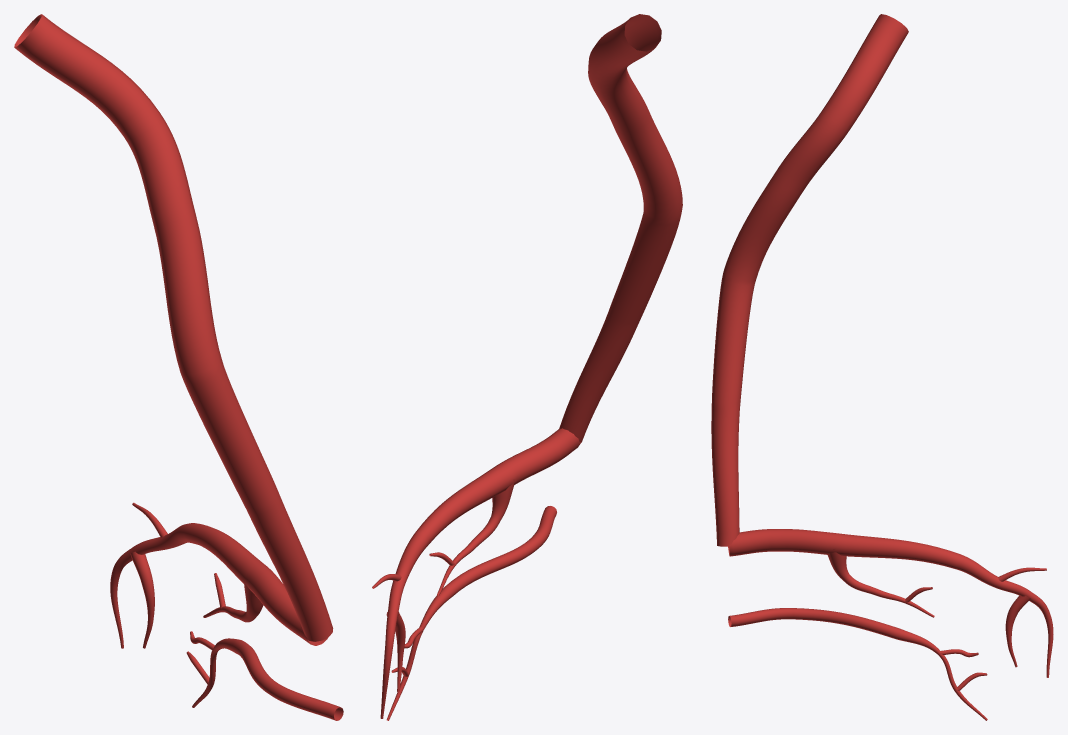
3 views of the same model, side by side, from view 1: azimuth 30°, elevation 25°; view 2: azimuth 150°, elevation 25°; view 3: azimuth 270°, elevation 25° (orthographic). The views are drawn at different scales.
Visible parts, largest first — view 1: 右侧上颌动脉; view 2: 右侧上颌动脉; view 3: 右侧上颌动脉.
Part boxes in pixels (x1,y1,x2,y2): 右侧上颌动脉: (14,14,343,720); 右侧上颌动脉: (372,14,682,720); 右侧上颌动脉: (711,14,1053,720).
Size of the model in its own units: 0.0282 by 0.0883 by 0.044.
